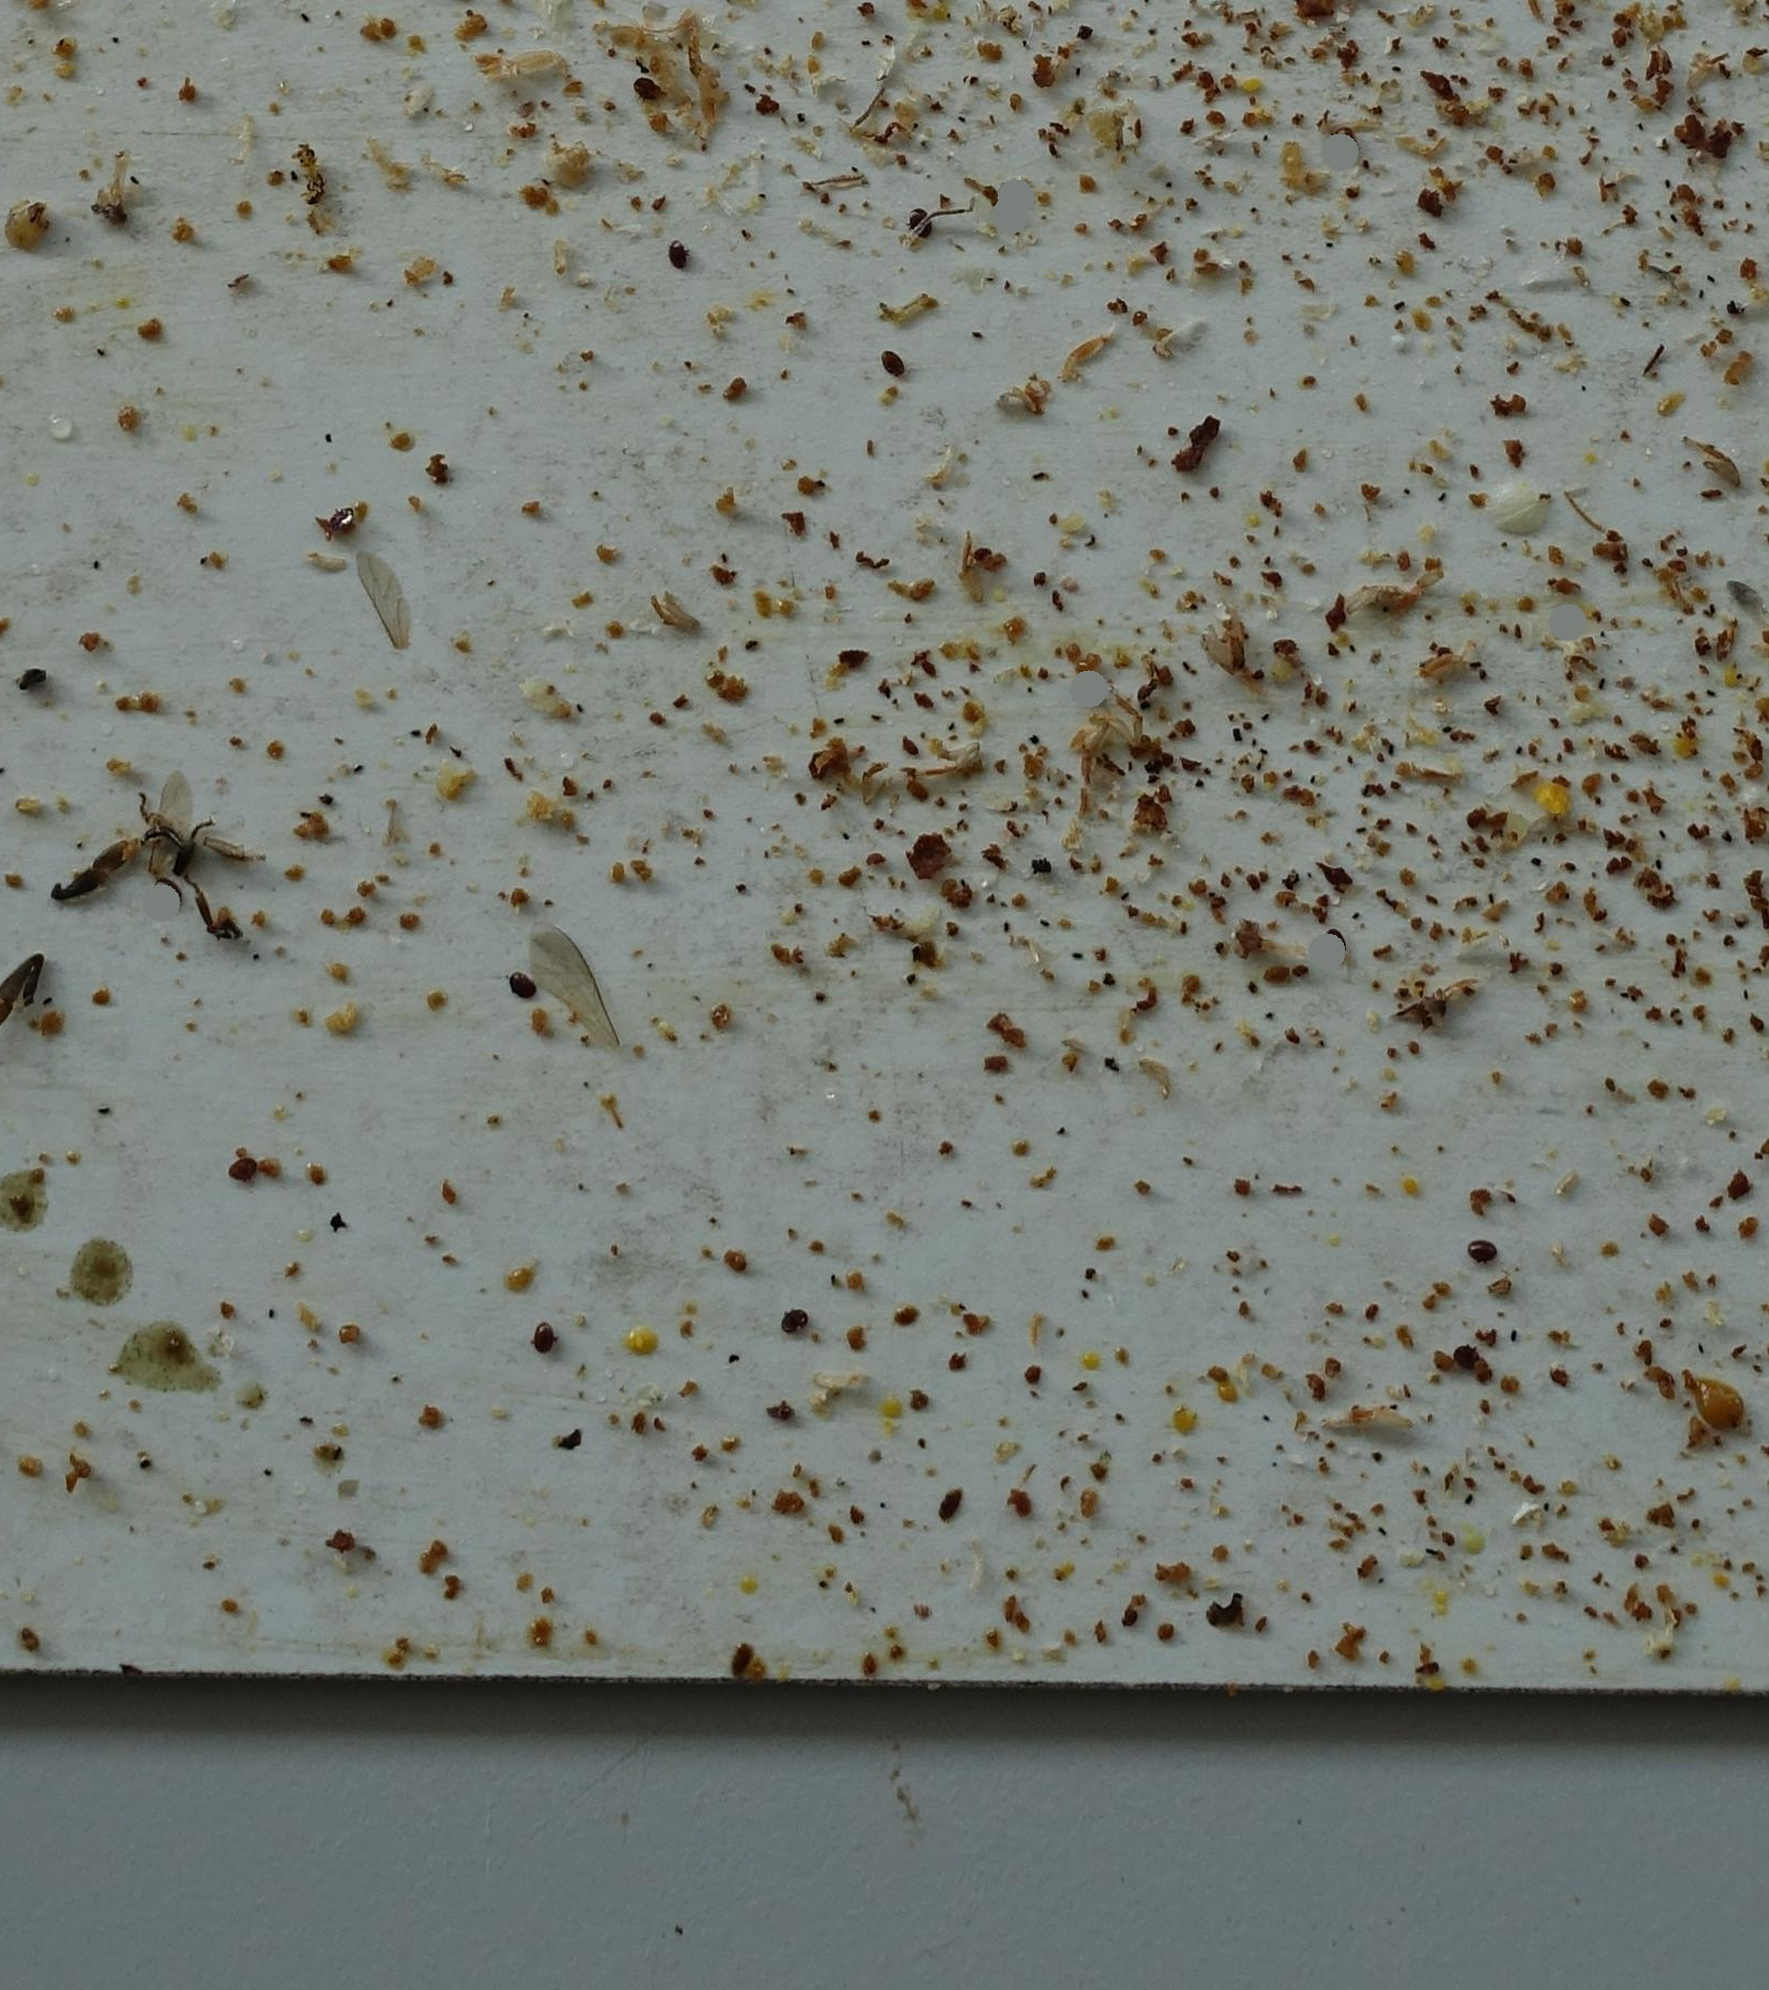Varroa: (319, 499, 360, 540), (1448, 1343, 1479, 1373), (511, 974, 540, 999), (780, 1310, 808, 1336), (666, 243, 693, 268), (531, 1326, 557, 1353), (633, 77, 659, 104), (231, 1156, 256, 1182), (1462, 1244, 1487, 1269), (1323, 921, 1347, 946), (890, 343, 912, 371), (873, 355, 896, 379), (1337, 120, 1359, 145), (162, 883, 181, 900), (914, 214, 932, 229)
